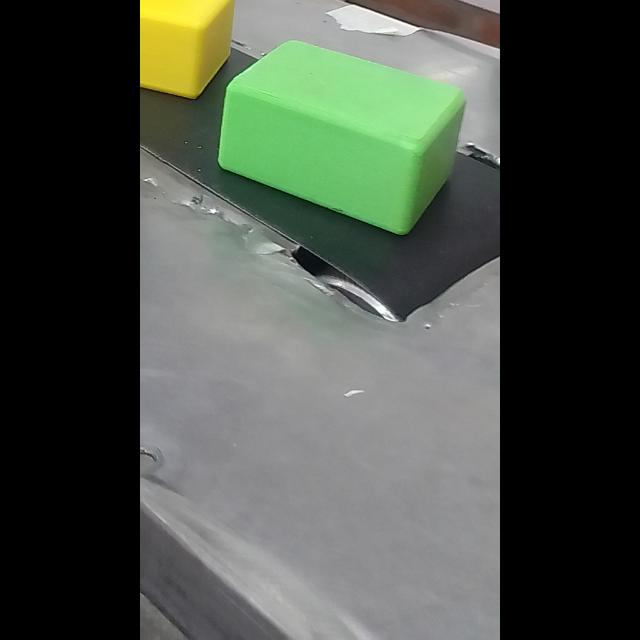greenBox: (212, 13, 482, 245)
yellowBox: (140, 0, 242, 100)
